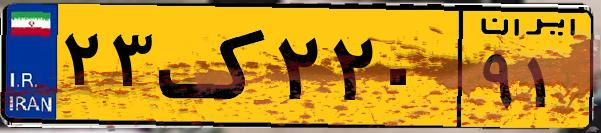0: (385, 28, 445, 110)
1: (525, 38, 570, 115)
2: (270, 28, 330, 110), (330, 28, 385, 110), (57, 26, 110, 100)
3: (110, 28, 158, 98)
9: (475, 38, 525, 113)
ک: (158, 12, 270, 120)
